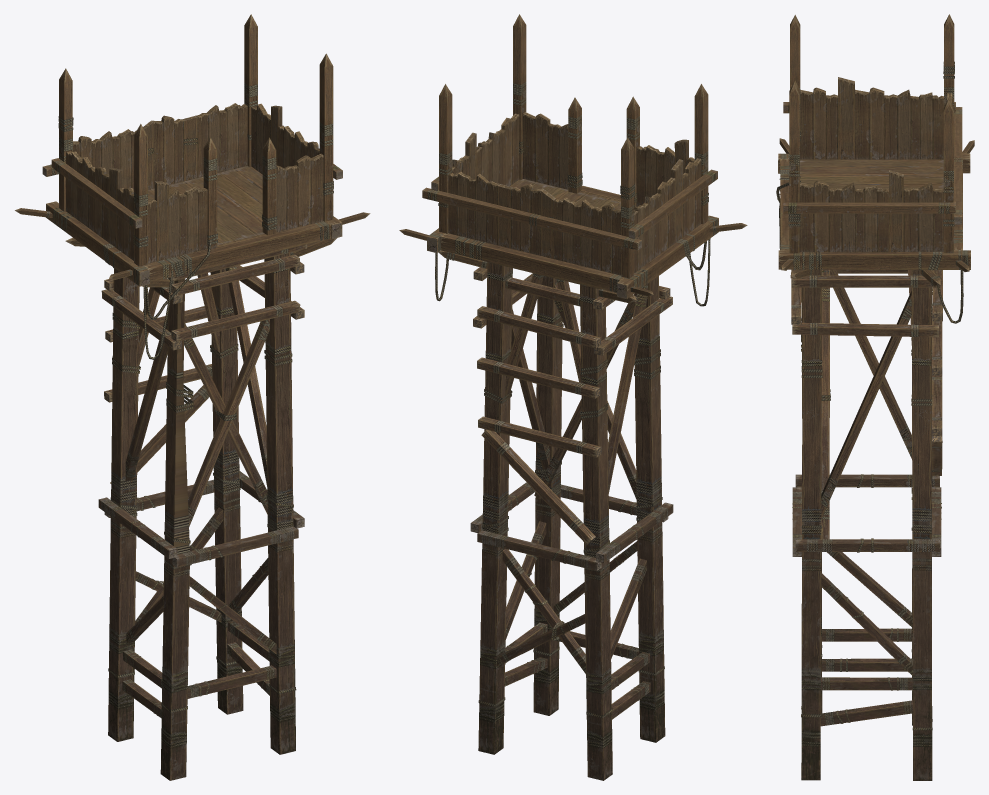
File: i_hl_gaoshaota01.FBX
3 views of the same model, side by side, from view 1: azimuth 30°, elevation 25°; view 2: azimuth 150°, elevation 25°; view 3: azimuth 270°, elevation 25° (orthographic). The views are drawn at different scales.
Parts seen in each view (by area): view 1: i_hl_gaoshaota01; view 2: i_hl_gaoshaota01; view 3: i_hl_gaoshaota01.
Boxes of the visible parts, x1,y1,x2,y2 form: i_hl_gaoshaota01: [15, 14, 370, 780]; i_hl_gaoshaota01: [399, 14, 747, 780]; i_hl_gaoshaota01: [776, 14, 974, 780].
Size of the model in its own units: 6.94 by 17.5 by 4.42.
